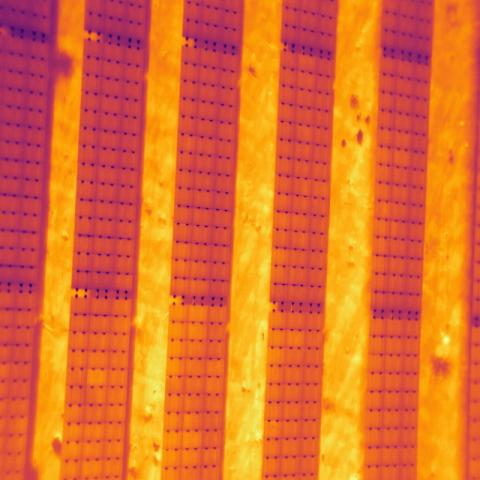fault: (88, 367, 108, 386)
